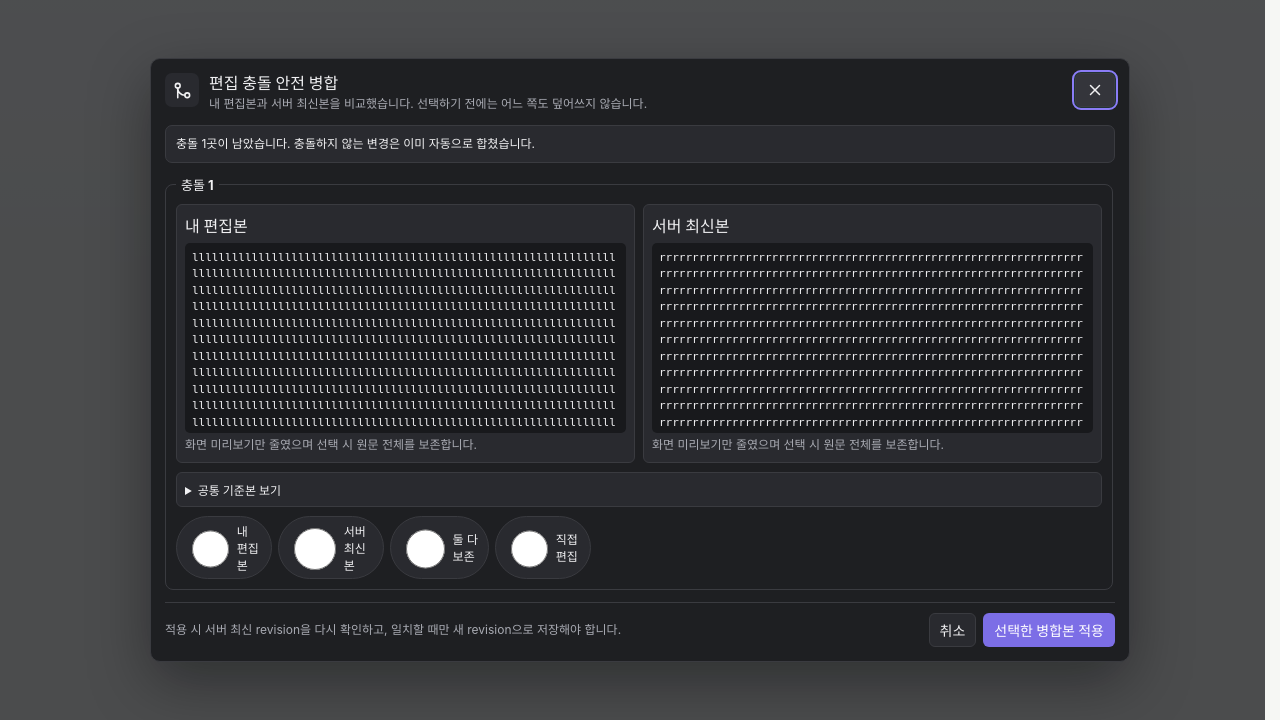
Test: VaultDraftConflictResolver › does not duplicate two oversized plaintext versions into the manual editor
This screenshot has width=1280, height=720.
Click the radio button labelled "직접 편집" at (529, 549), box [511,528,548,570]
(page scrolled)
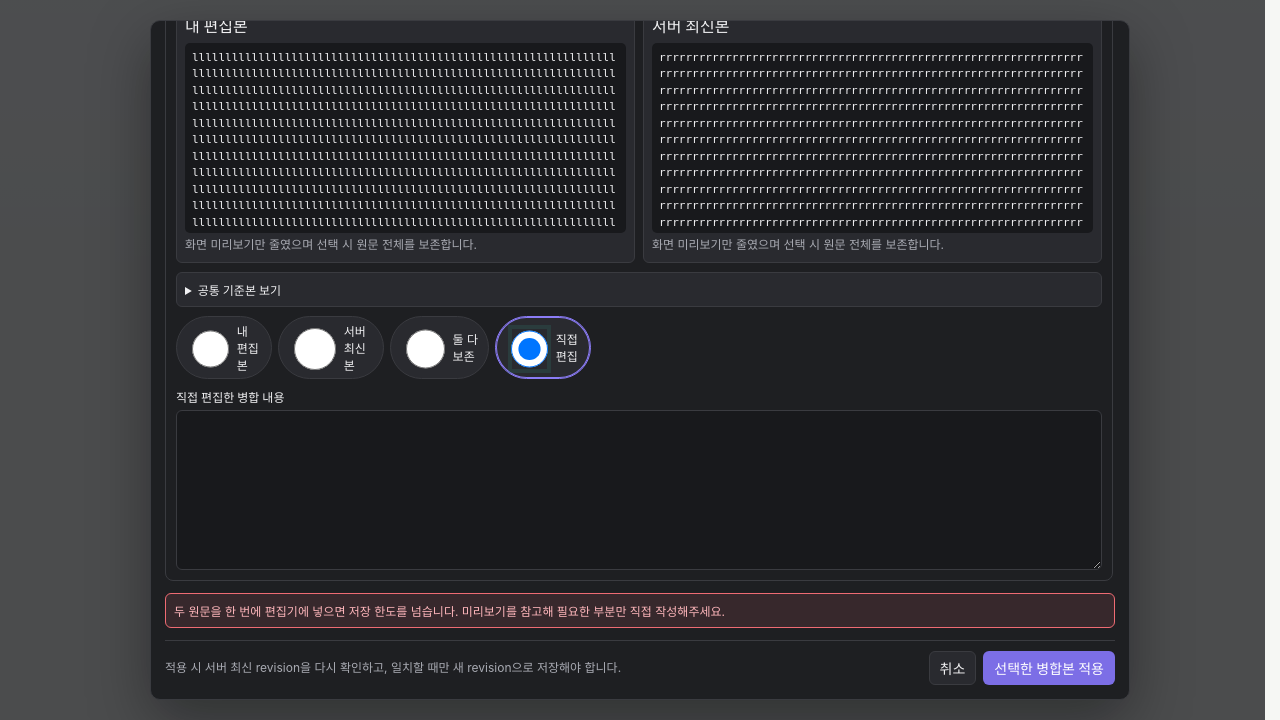
Now the text box labelled "직접 편집한 병합 내용" is empty, box [176,410,1102,570]
Now the message shows "저장 한도를 넘습니다", box [174,604,725,619]
